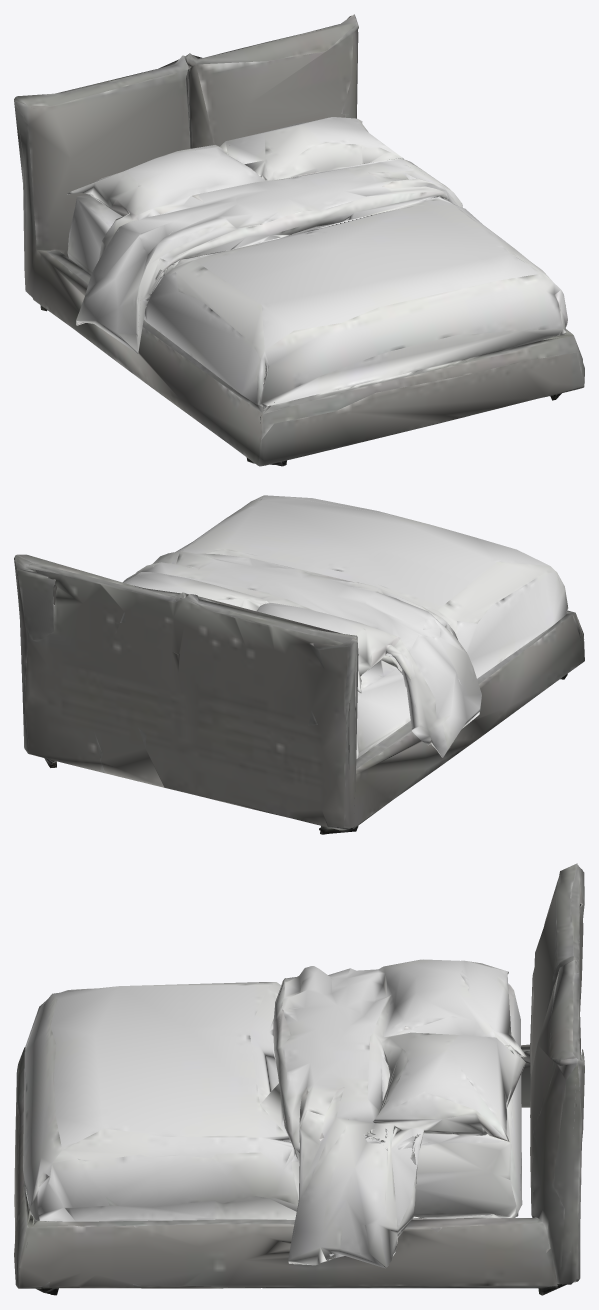
Rendered from fm_bed_grey.glb.
3 views of the same model, one above another, from view 1: azimuth 30°, elevation 25°; view 2: azimuth 150°, elevation 25°; view 3: azimuth 270°, elevation 25° (orthographic). The views are drawn at different scales.
Parts seen in each view (by area): view 1: geometry_0; view 2: geometry_0; view 3: geometry_0.
Part boxes in pixels (x1=…): geometry_0: x1=14, y1=14, x2=584, y2=466; geometry_0: x1=14, y1=495, x2=584, y2=834; geometry_0: x1=14, y1=863, x2=584, y2=1295.
Size of the model in its own units: 0.8999 by 0.477 by 0.9996.
Materials: 1 (1 with a texture image).
